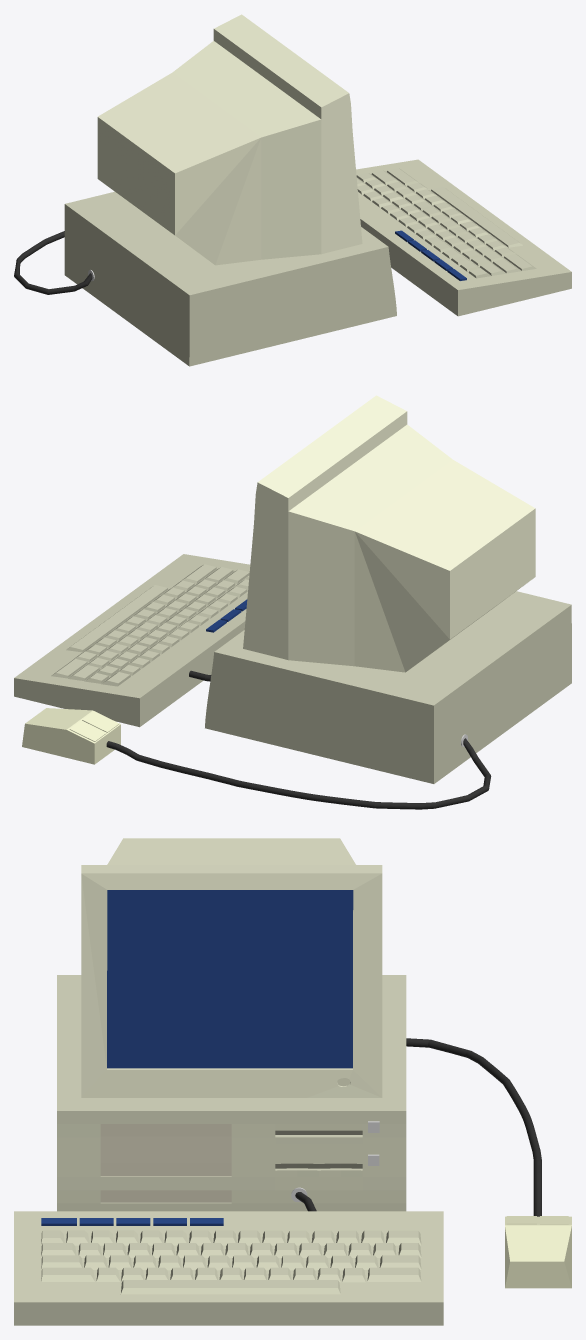
Rendered from OldComp.fbx.
3 views of the same model, one above another, from view 1: azimuth 30°, elevation 25°; view 2: azimuth 150°, elevation 25°; view 3: azimuth 270°, elevation 25° (orthographic). The views are drawn at different scales.
Visible parts, largest first — view 1: Cube.001, Cube, Cube.003, Cylinder; view 2: Cube.001, Cube, Cube.003, Cube.002, Cylinder; view 3: Cube.001, Cube.003, Cube, Cube.002, Cylinder.
Boxes of the visible parts, left/top/right/bottom form: Cube.001: left=97, top=14, right=362, bottom=265; Cube: left=64, top=191, right=396, bottom=366; Cube.003: left=356, top=159, right=571, bottom=316; Cylinder: left=14, top=231, right=92, bottom=294; Cube.001: left=243, top=395, right=535, bottom=672; Cube: left=205, top=591, right=571, bottom=783; Cube.003: left=14, top=554, right=250, bottom=727; Cube.002: left=22, top=708, right=120, bottom=764; Cylinder: left=106, top=738, right=491, bottom=809; Cube.001: left=81, top=838, right=382, bottom=1097; Cube.003: left=14, top=1211, right=443, bottom=1325; Cube: left=57, top=975, right=406, bottom=1211; Cube.002: left=505, top=1216, right=571, bottom=1288; Cylinder: left=406, top=1038, right=541, bottom=1216.
Size of the model in its own units: 395 by 331 by 207.
